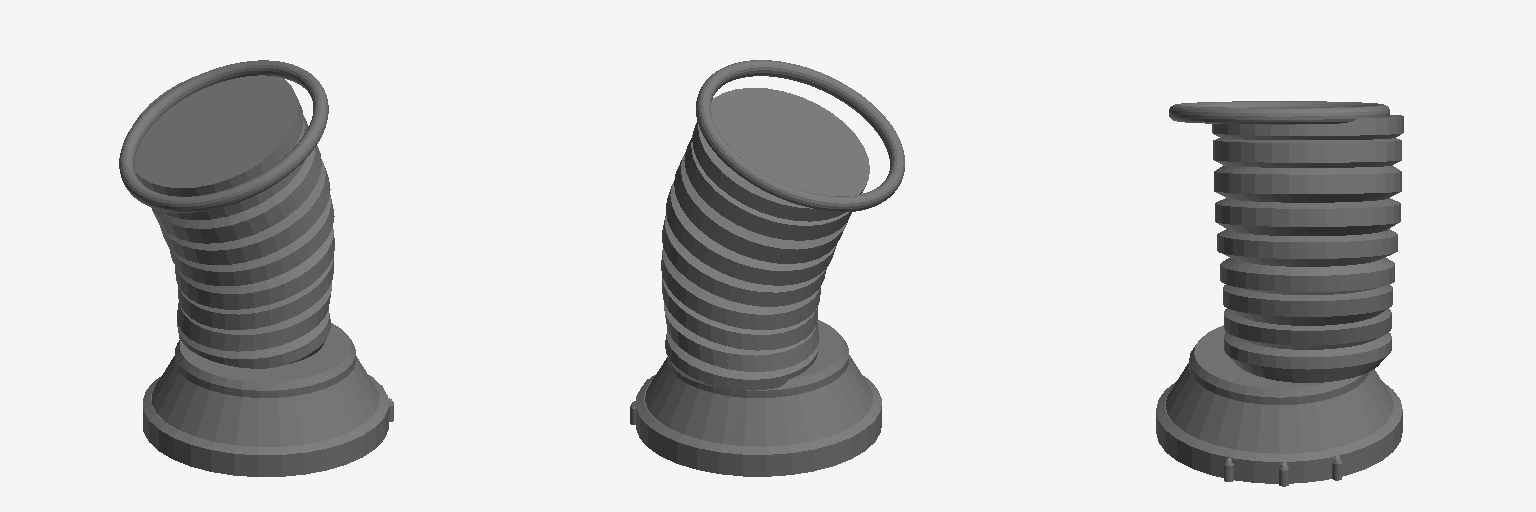
File: goddart_LB_leg.obj
3 views of the same model, side by side, from view 1: azimuth 30°, elevation 25°; view 2: azimuth 150°, elevation 25°; view 3: azimuth 270°, elevation 25° (orthographic).
Visible parts, largest first — view 1: C_rculo_005_C_rculo_006, C_rculo_018_C_rculo_019, C_rculo_019_C_rculo_020, C_rculo_002, C_rculo_017_C_rculo_018; view 2: C_rculo_005_C_rculo_006, C_rculo_018_C_rculo_019, C_rculo_019_C_rculo_020, C_rculo_002, C_rculo_017_C_rculo_018; view 3: C_rculo_005_C_rculo_006, C_rculo_018_C_rculo_019, C_rculo_019_C_rculo_020, C_rculo_017_C_rculo_018, C_rculo_002, Cilindro_004_Cilindro_007.
Boxes of the visible parts, box(x1,y1,x2,y2) form: C_rculo_005_C_rculo_006: box(133, 75, 334, 368); C_rculo_018_C_rculo_019: box(152, 356, 378, 446); C_rculo_019_C_rculo_020: box(143, 375, 388, 476); C_rculo_002: box(119, 60, 328, 212); C_rculo_017_C_rculo_018: box(175, 323, 355, 397); C_rculo_005_C_rculo_006: box(661, 88, 869, 390); C_rculo_018_C_rculo_019: box(645, 355, 872, 445); C_rculo_019_C_rculo_020: box(636, 375, 881, 476); C_rculo_002: box(696, 60, 904, 212); C_rculo_017_C_rculo_018: box(668, 320, 848, 397); C_rculo_005_C_rculo_006: box(1212, 115, 1403, 382); C_rculo_018_C_rculo_019: box(1165, 363, 1393, 452); C_rculo_019_C_rculo_020: box(1156, 381, 1402, 483); C_rculo_017_C_rculo_018: box(1189, 325, 1368, 404); C_rculo_002: box(1169, 101, 1389, 124); Cilindro_004_Cilindro_007: box(1224, 456, 1341, 486).
Bounding box in the file's own units: 1.17 × 1.58 × 1.03.